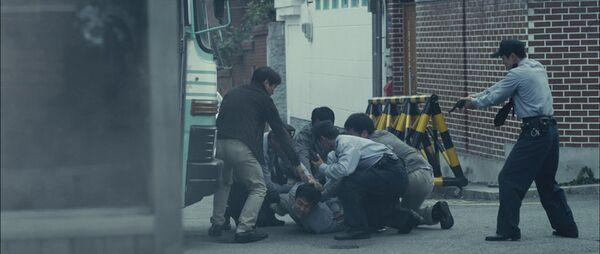Gun: (449, 98, 467, 115)
